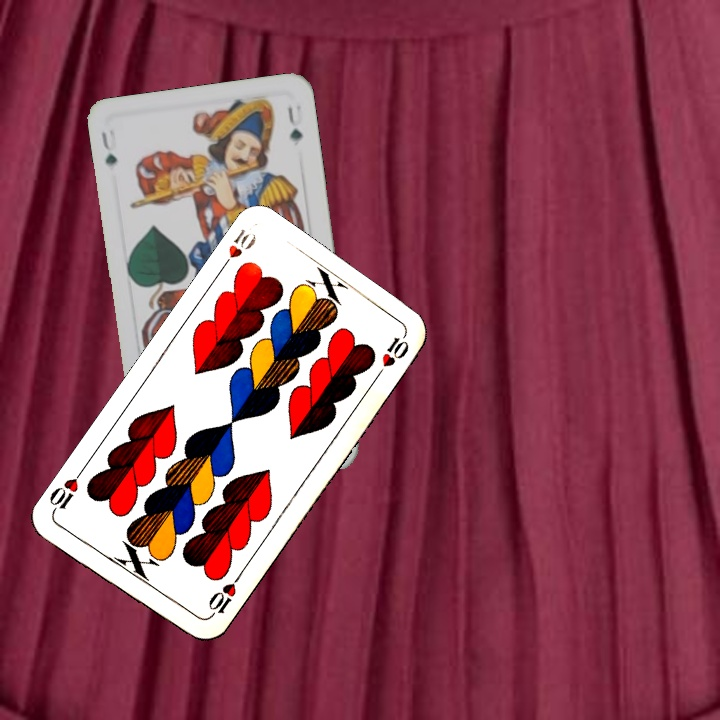GU: (97, 125, 120, 168)
H10: (214, 224, 259, 276), (203, 571, 243, 622)
